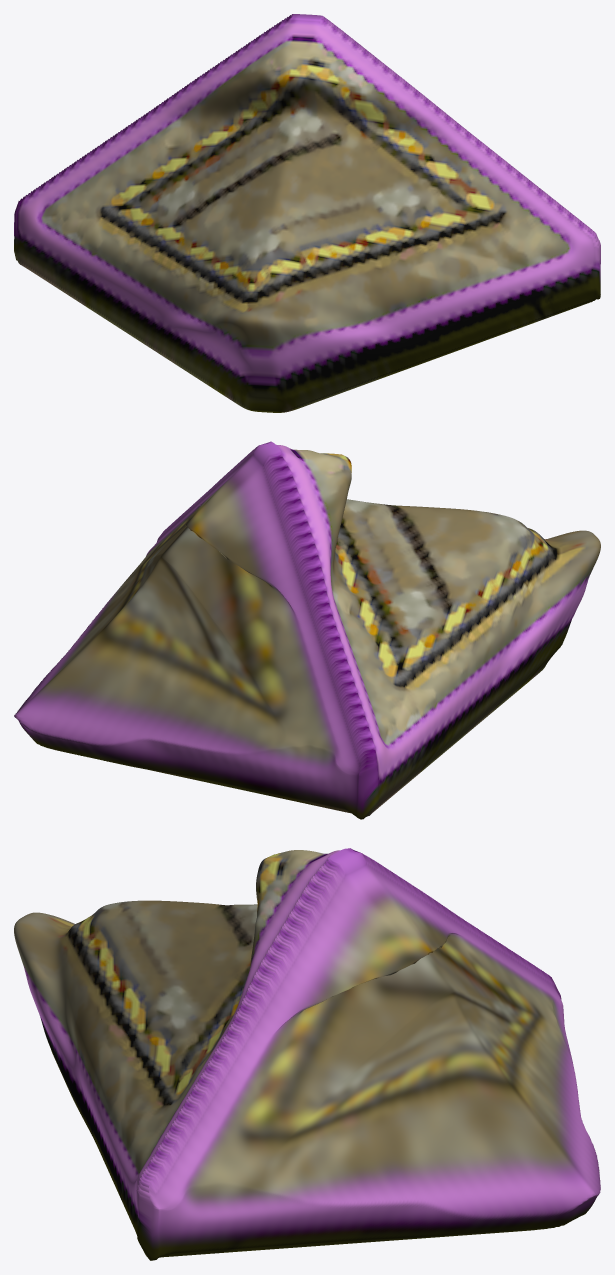
The model's file is yuri_tank_bunker.glb.
3 renders of one model, top to bottom at view 1: azimuth 30°, elevation 25°; view 2: azimuth 150°, elevation 25°; view 3: azimuth 270°, elevation 25°, orthographic. The views are drawn at different scales.
Parts seen in each view (by area): view 1: yuri_tank_bunker; view 2: yuri_tank_bunker; view 3: yuri_tank_bunker.
Boxes of the visible parts, box(x1,y1,x2,y2) form: yuri_tank_bunker: box(14, 14, 600, 412); yuri_tank_bunker: box(14, 441, 600, 819); yuri_tank_bunker: box(14, 848, 600, 1260).
Bounding box in the file's own units: 1.79 × 1.11 × 1.98.
